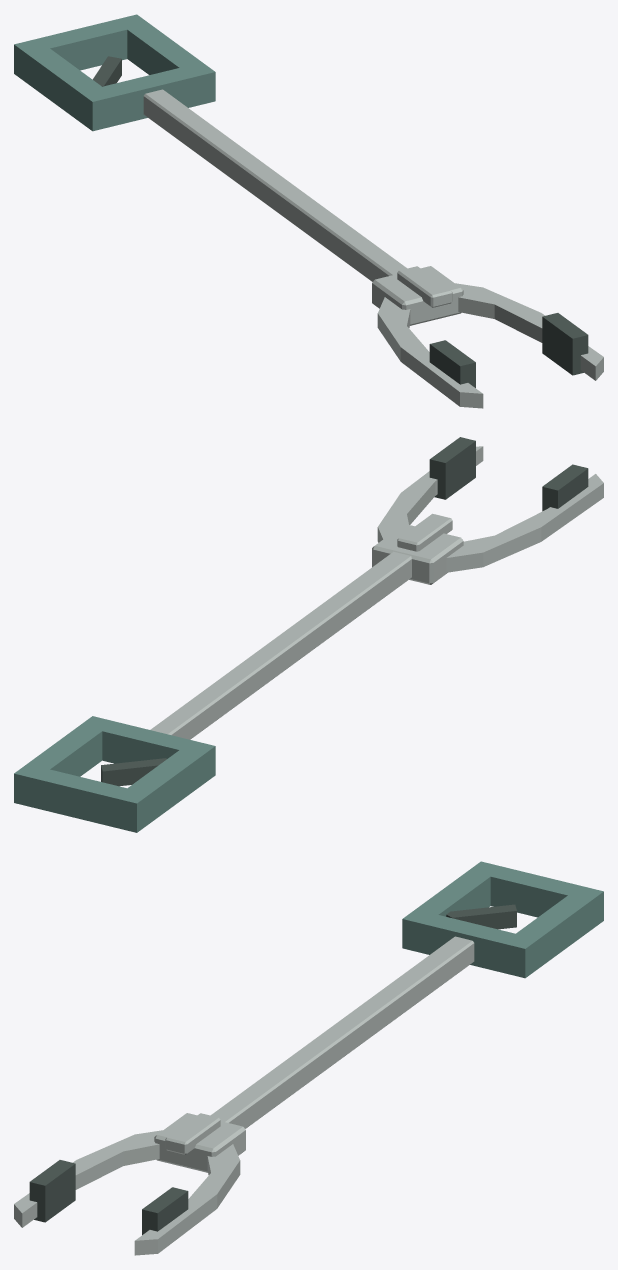
3 renders of one model, top to bottom at view 1: azimuth 30°, elevation 25°; view 2: azimuth 150°, elevation 25°; view 3: azimuth 330°, elevation 25°, orthographic.
Parts seen in each view (by area): view 1: Continuous open handgrip, Long rectangular pickup shaft, Left fixed curved jaw, Right fixed curved jaw, Static opposed-jaw head, Right opposing flat grip pad, Left opposing flat grip pad, Exposed linkage hint, Static inner trigger; view 2: Continuous open handgrip, Long rectangular pickup shaft, Left fixed curved jaw, Static opposed-jaw head, Right opposing flat grip pad, Right fixed curved jaw, Left opposing flat grip pad, Exposed linkage hint, Static inner trigger; view 3: Continuous open handgrip, Long rectangular pickup shaft, Right fixed curved jaw, Left fixed curved jaw, Static opposed-jaw head, Left opposing flat grip pad, Right opposing flat grip pad, Exposed linkage hint, Static inner trigger.
Boxes of the visible parts, x1,y1,x2,y2 form: Continuous open handgrip: (14,14,215,131); Long rectangular pickup shaft: (143,89,407,281); Left fixed curved jaw: (377,297,483,408); Right fixed curved jaw: (455,283,603,380); Static opposed-jaw head: (372,266,463,325); Right opposing flat grip pad: (542,313,588,375); Left opposing flat grip pad: (429,340,475,387); Exposed linkage hint: (397,266,452,307); Static inner trigger: (92,56,121,86); Continuous open handgrip: (14,716,215,832); Long rectangular pickup shaft: (150,551,411,739); Left fixed curved jaw: (446,474,603,572); Static opposed-jaw head: (372,524,463,584); Right opposing flat grip pad: (429,437,475,499); Right fixed curved jaw: (377,446,483,542); Left opposing flat grip pad: (542,464,588,511); Exposed linkage hint: (397,513,452,551); Static inner trigger: (101,758,166,786); Continuous open handgrip: (402,861,603,978); Long rectangular pickup shaft: (210,936,474,1128); Right fixed curved jaw: (134,1144,240,1255); Left fixed curved jaw: (14,1130,162,1227); Static opposed-jaw head: (154,1113,245,1172); Left opposing flat grip pad: (29,1160,75,1222); Right opposing flat grip pad: (142,1187,188,1234); Exposed linkage hint: (165,1113,220,1154); Static inner trigger: (446,904,516,929).
Bounding box in the file's own units: 0.164 × 0.04 × 0.915.
